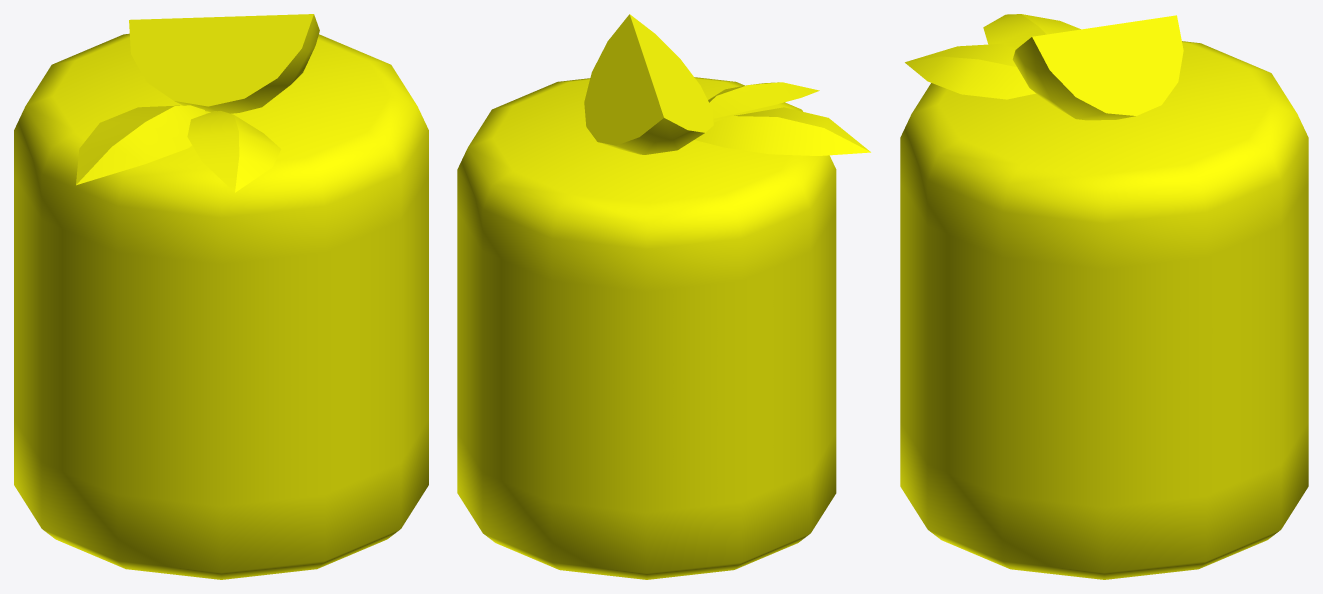
3 renders of one model, left to right at view 1: azimuth 30°, elevation 25°; view 2: azimuth 150°, elevation 25°; view 3: azimuth 270°, elevation 25°, orthographic. The views are drawn at different scales.
Parts seen in each view (by area): view 1: m_MiniCake01; view 2: m_MiniCake01; view 3: m_MiniCake01.
Boxes of the visible parts, left/top/right/bottom form: m_MiniCake01: left=14, top=14, right=428, bottom=579; m_MiniCake01: left=457, top=14, right=870, bottom=579; m_MiniCake01: left=900, top=14, right=1308, bottom=579.
Size of the model in its own units: 0.1185 by 0.1503 by 0.1134.
Materials: 1 (1 with a texture image).
